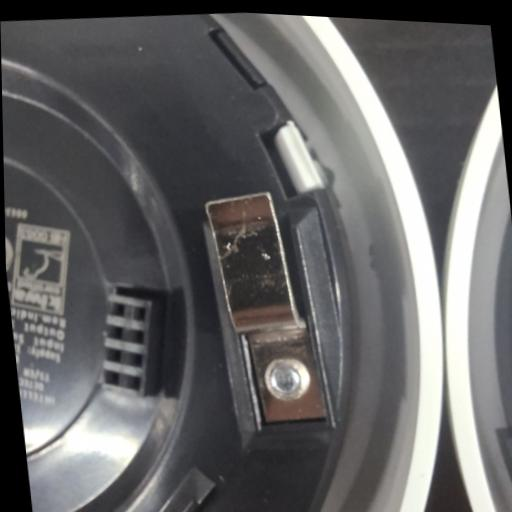yaysiz: (196, 169, 347, 444)
